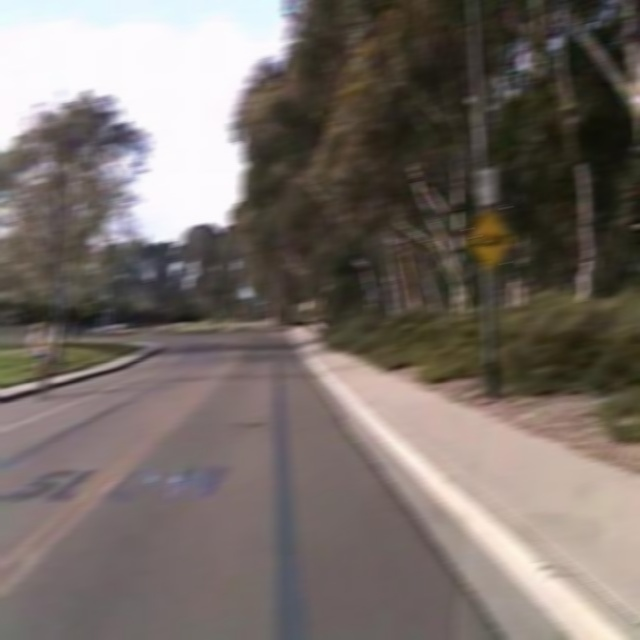slow: (464, 206, 514, 274)
